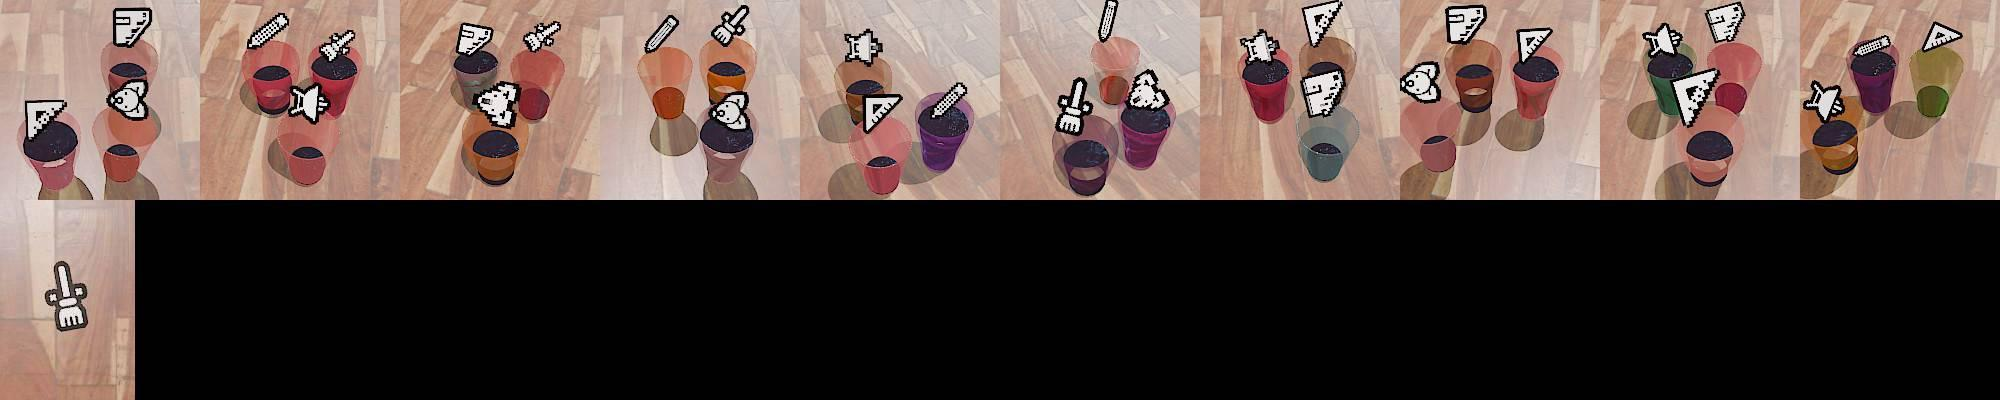icon: (1670, 66, 1723, 128), (44, 260, 90, 331), (1299, 64, 1345, 118), (1055, 75, 1094, 137), (475, 81, 520, 128), (859, 88, 903, 135), (1301, 0, 1344, 48), (1125, 67, 1170, 111), (25, 98, 69, 142), (1399, 60, 1443, 104), (287, 80, 330, 124), (1803, 79, 1845, 123), (1445, 4, 1487, 46), (1705, 2, 1746, 45), (107, 79, 150, 120), (246, 12, 290, 52), (710, 4, 750, 48), (112, 7, 153, 49), (930, 78, 970, 119), (710, 91, 750, 130), (1240, 28, 1281, 66), (1642, 22, 1684, 59), (1515, 27, 1554, 66), (843, 28, 883, 65), (1920, 20, 1963, 53), (644, 14, 679, 54), (455, 22, 494, 57), (523, 19, 562, 54), (320, 29, 356, 63), (1852, 34, 1893, 59), (1097, 0, 1120, 42)
